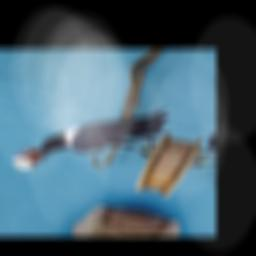Crow: (32, 90, 179, 180)
